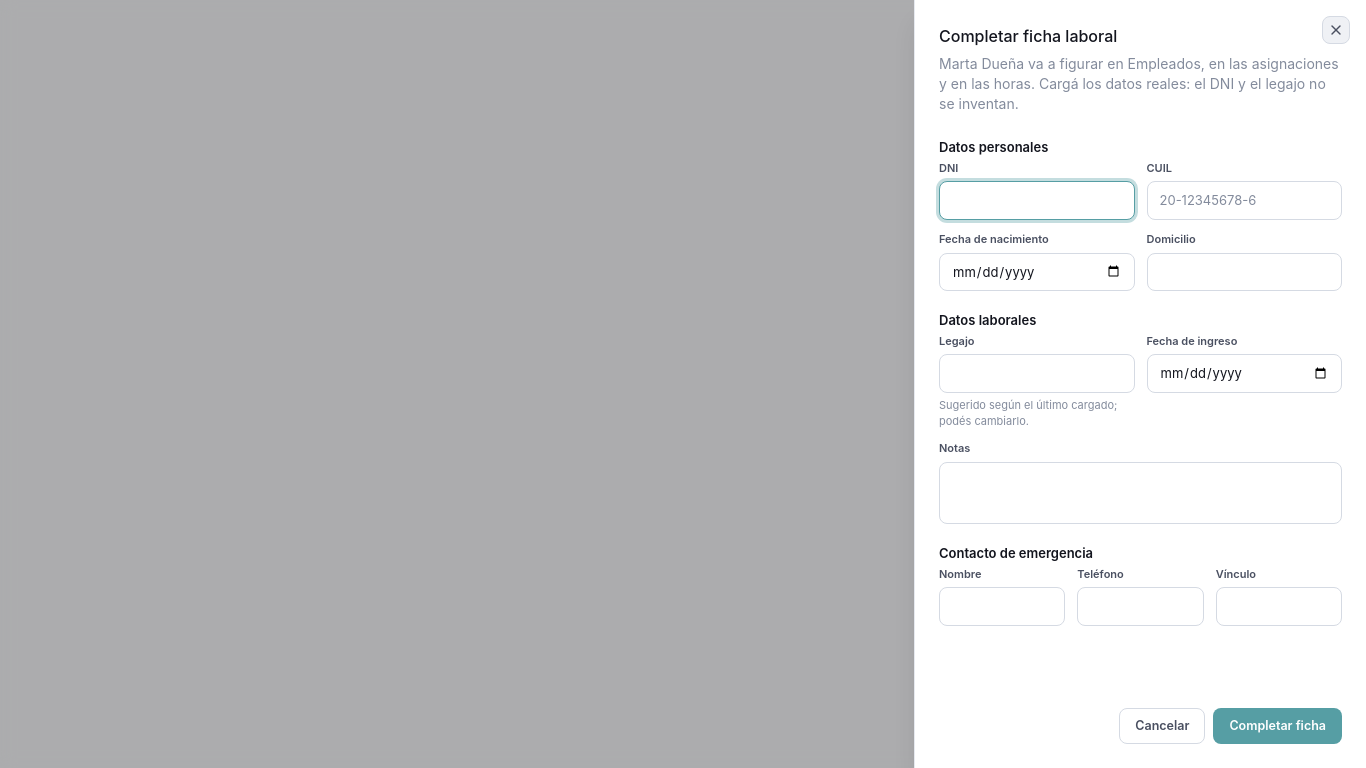
it: CompleteEmployeeRecordSheet › muestra el mensaje del servidor si el legajo ya está en uso
Step 1. Type "20111222" into the field with id "complete-record-dni" → [1037, 201], box [939,181,1134,220]
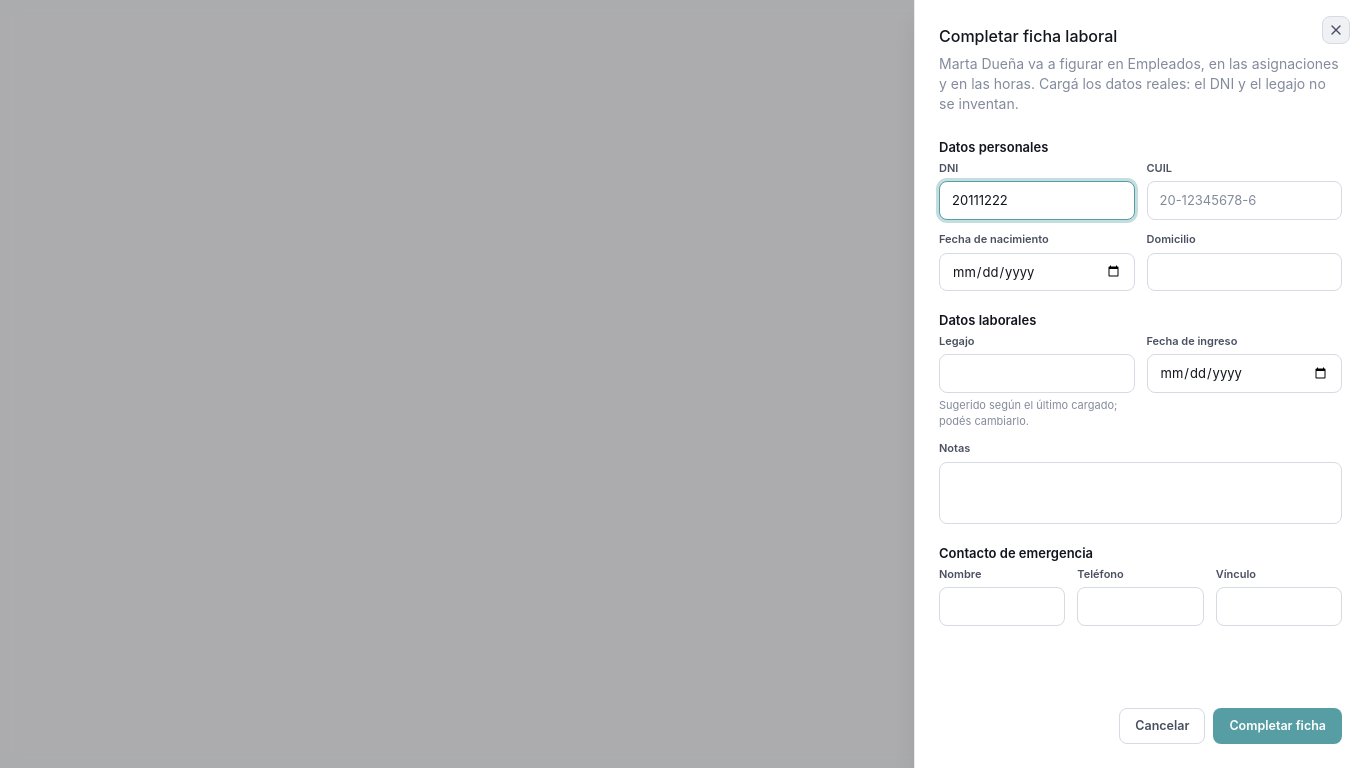
Step 2. Type "3" into the number field with id "complete-record-number" → [1037, 374], box [939,354,1134,393]
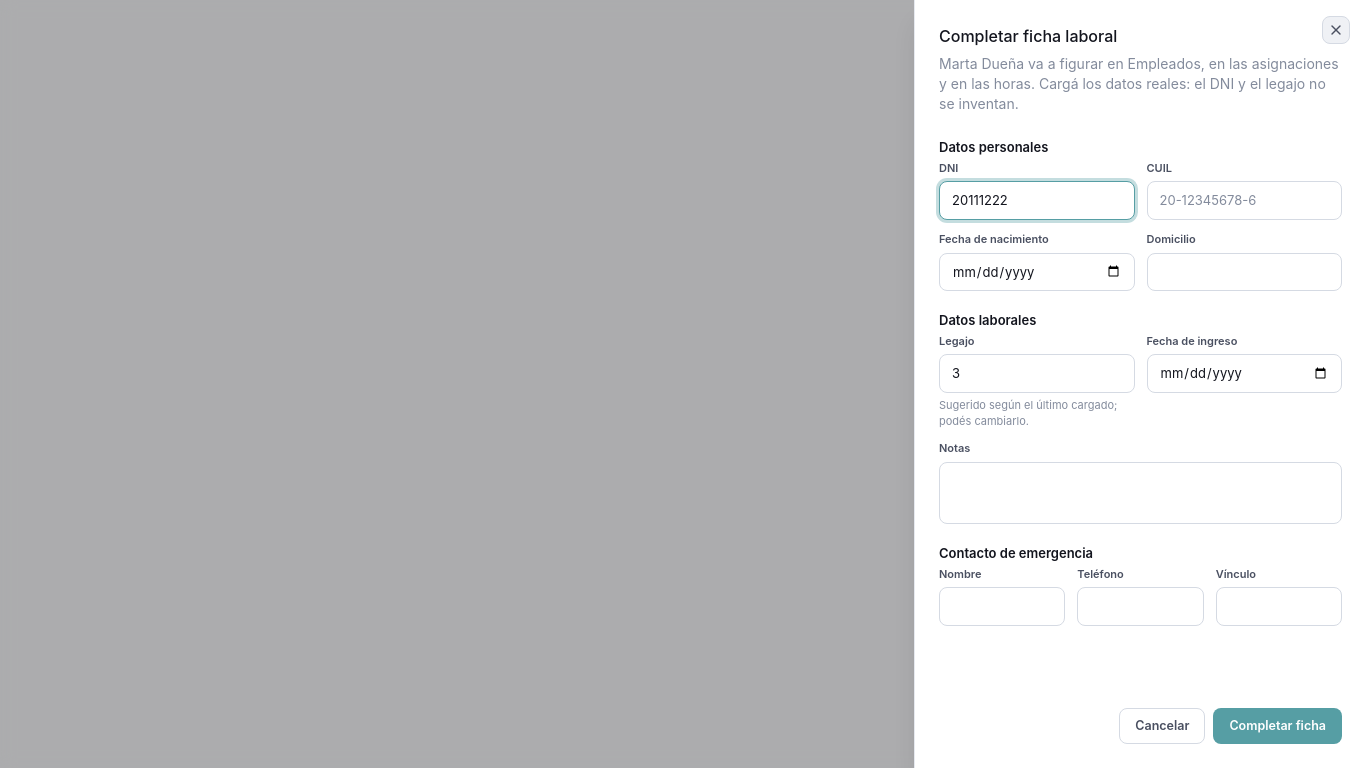
Step 3. Click the button "Completar ficha" → [1278, 726], box [1213,708,1342,744]
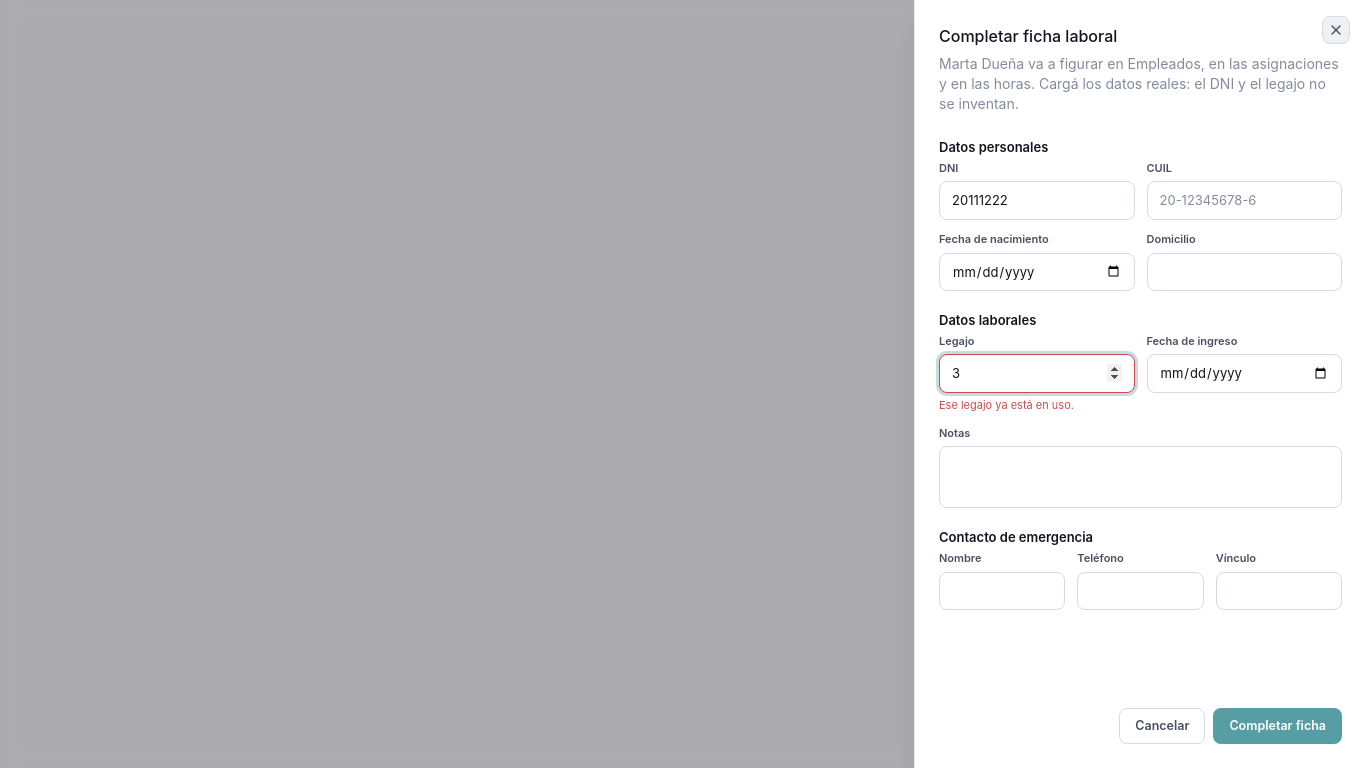
Now the text "Ese legajo ya está en uso." is shown, box [939,398,1074,412]
